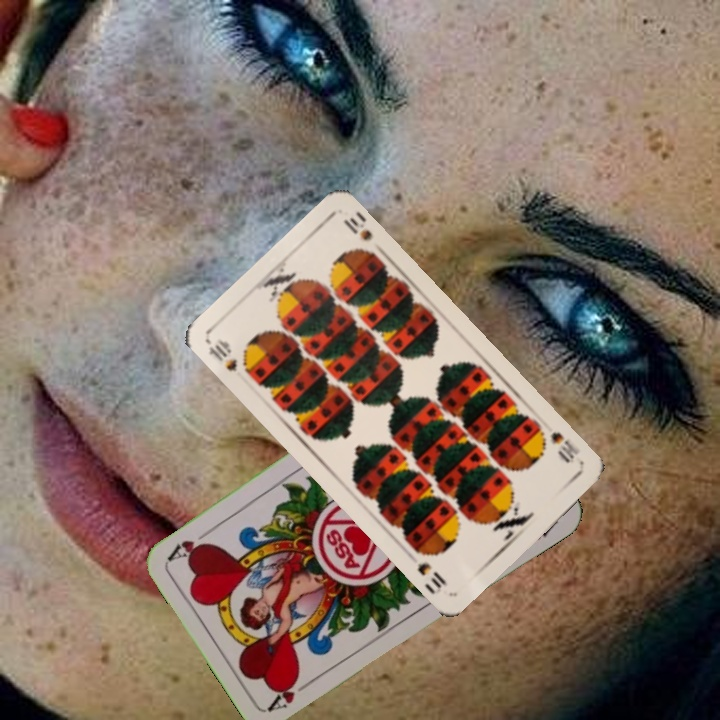HA: (265, 671, 318, 713)
S10: (204, 335, 240, 375), (546, 428, 583, 466)
